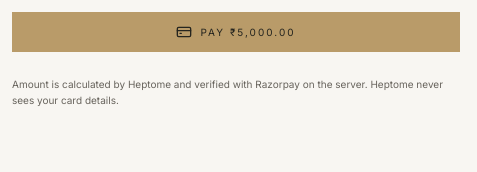
payment checkout UI › reports success only after backend verification completes
Click the button "Pay ₹5,000.00". click: (236, 32)
box: [12,12,460,52]
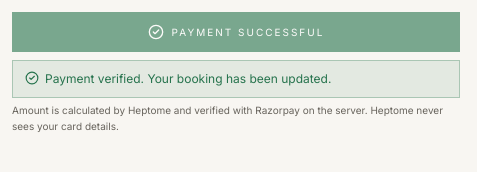
expect the button "Payment successful" is shown: met, box [12,12,460,52]
